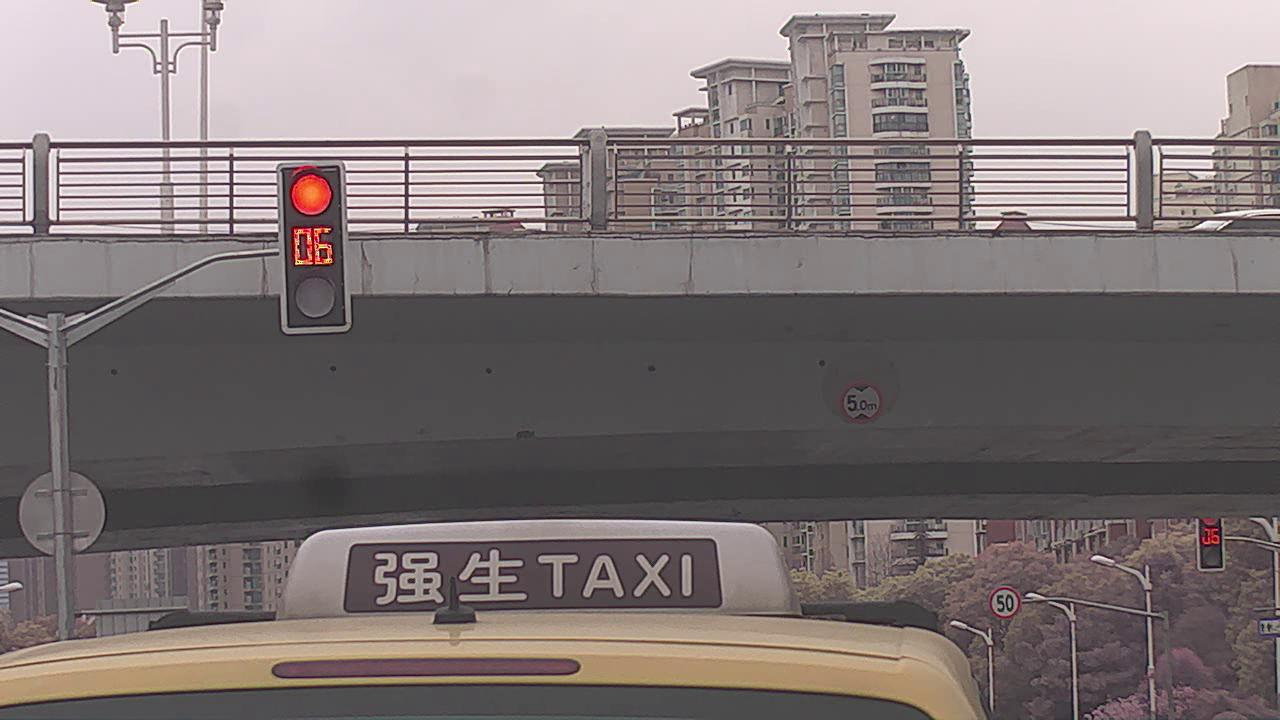traffic_light: (277, 169, 350, 333), (1202, 516, 1227, 573)
